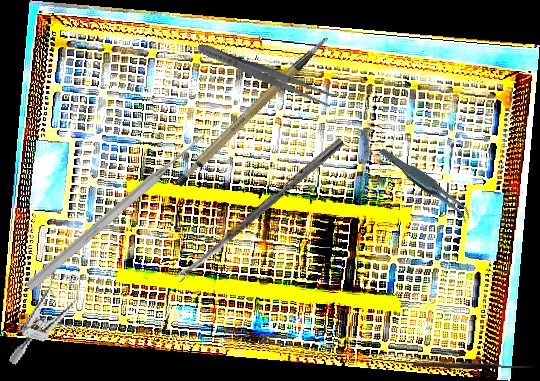Dressing Forceps: (194, 38, 336, 110)
Hook Surgical: (412, 355, 533, 371)
Pusher: (23, 129, 210, 294)
Scalpel Handle: (158, 35, 350, 190)
Speculum: (8, 253, 88, 377)
Surgical Spoon: (173, 136, 345, 284)
Tissue Forceps: (378, 131, 474, 237)
